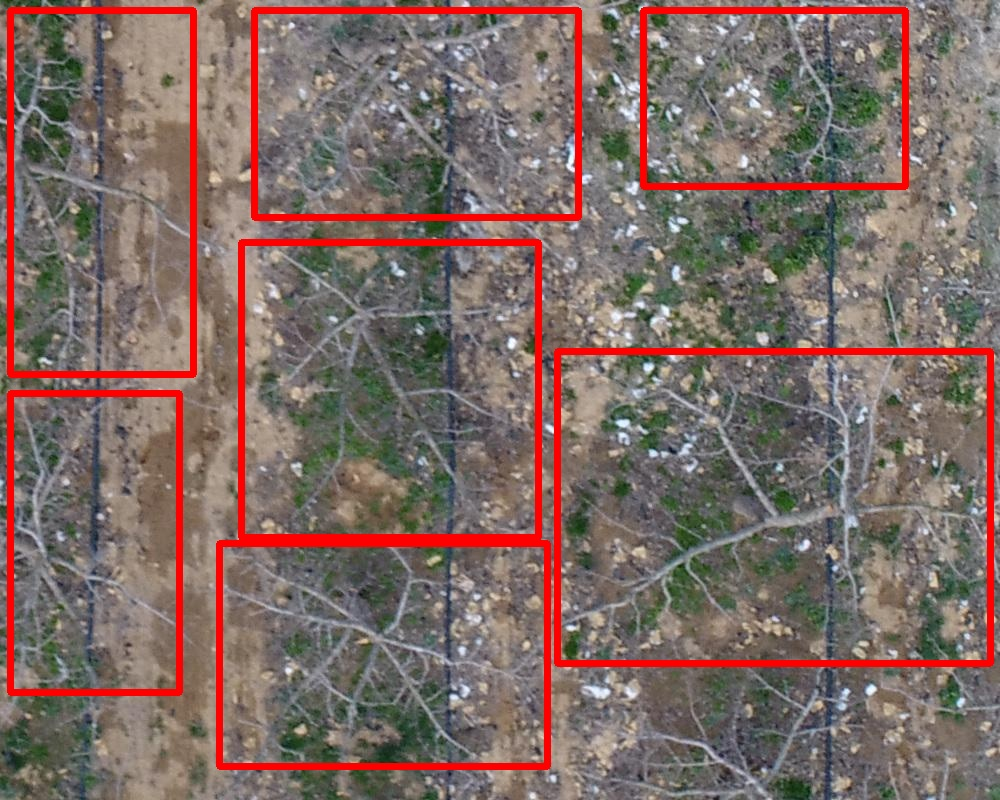apple: (557, 351, 990, 663), (241, 242, 538, 537), (219, 543, 547, 766), (254, 10, 578, 217), (10, 10, 193, 374), (10, 393, 179, 692), (643, 10, 905, 186)
